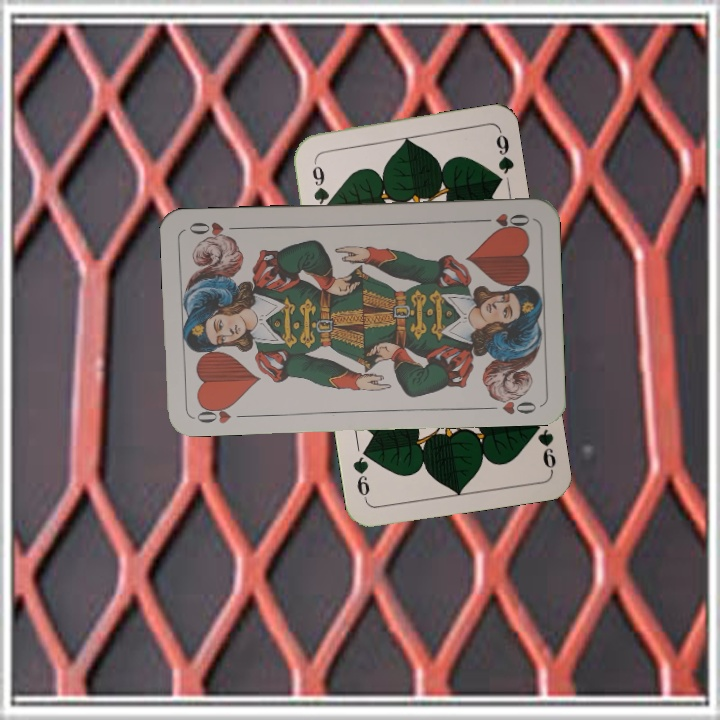G9: (527, 416, 559, 474), (308, 156, 335, 213)
HO: (191, 400, 250, 426), (474, 209, 533, 232)
